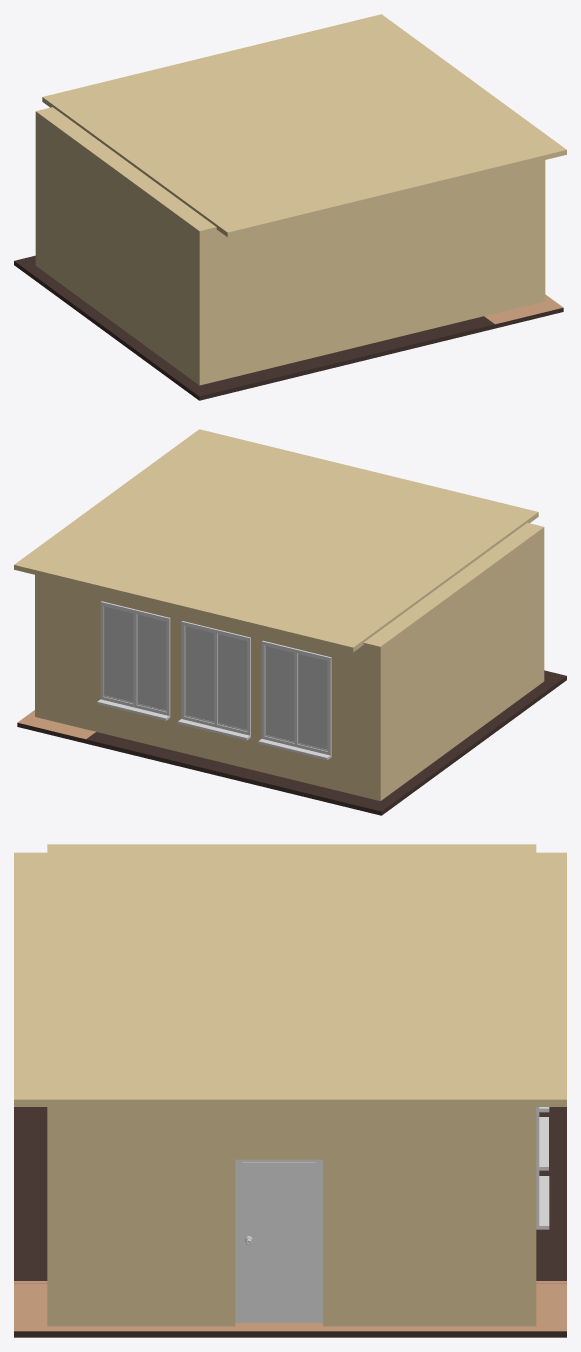
File: FloorPlan220.fbx
3 views of the same model, one above another, from view 1: azimuth 30°, elevation 25°; view 2: azimuth 150°, elevation 25°; view 3: azimuth 270°, elevation 25° (orthographic). The views are drawn at different scales.
Visible parts, largest first — view 1: Cube.1096; view 2: Cube.1096; view 3: Cube.1096, Door.011, DoorFrame.008.
Part boxes in pixels (bbox=[...]): Cube.1096: bbox=[14, 14, 566, 400]; Cube.1096: bbox=[14, 429, 566, 815]; Cube.1096: bbox=[14, 844, 566, 1337]; Door.011: bbox=[242, 1162, 315, 1322]; DoorFrame.008: bbox=[235, 1159, 322, 1322].
Size of the model in its own units: 722 by 303 by 630.
